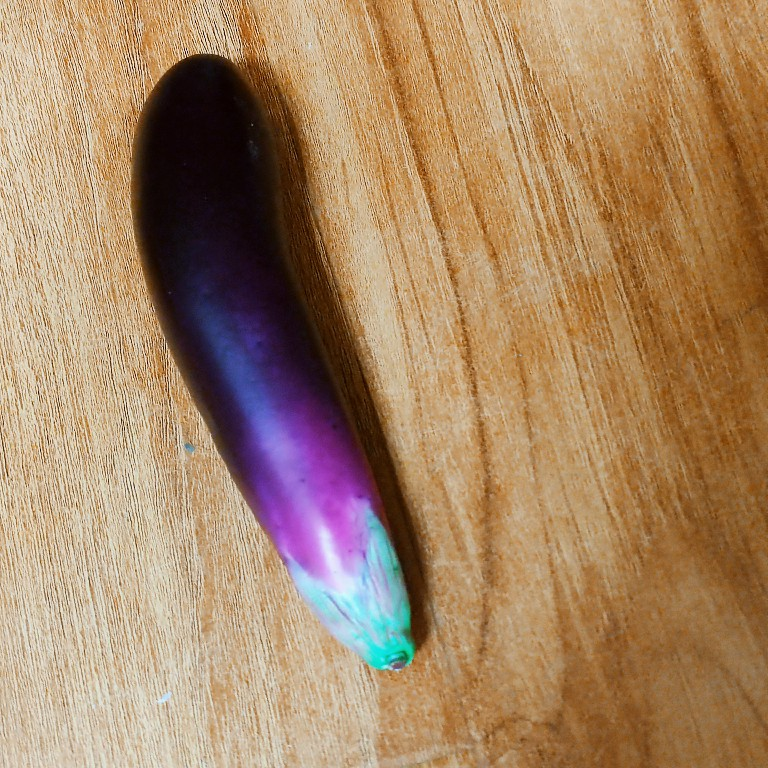fruit_eggplant: (120, 39, 427, 685)
